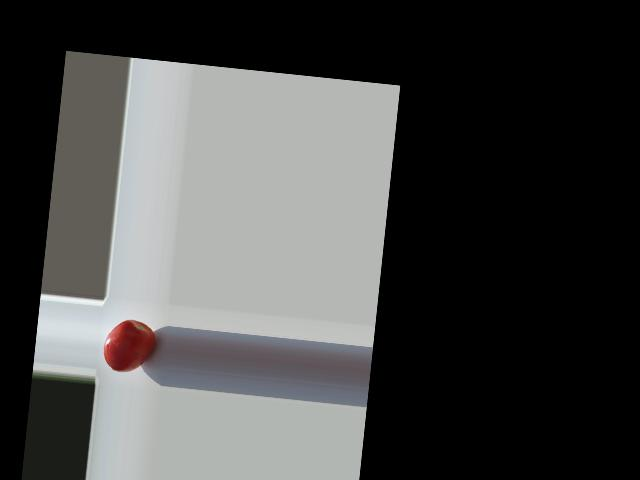tomato: (101, 317, 157, 375)
